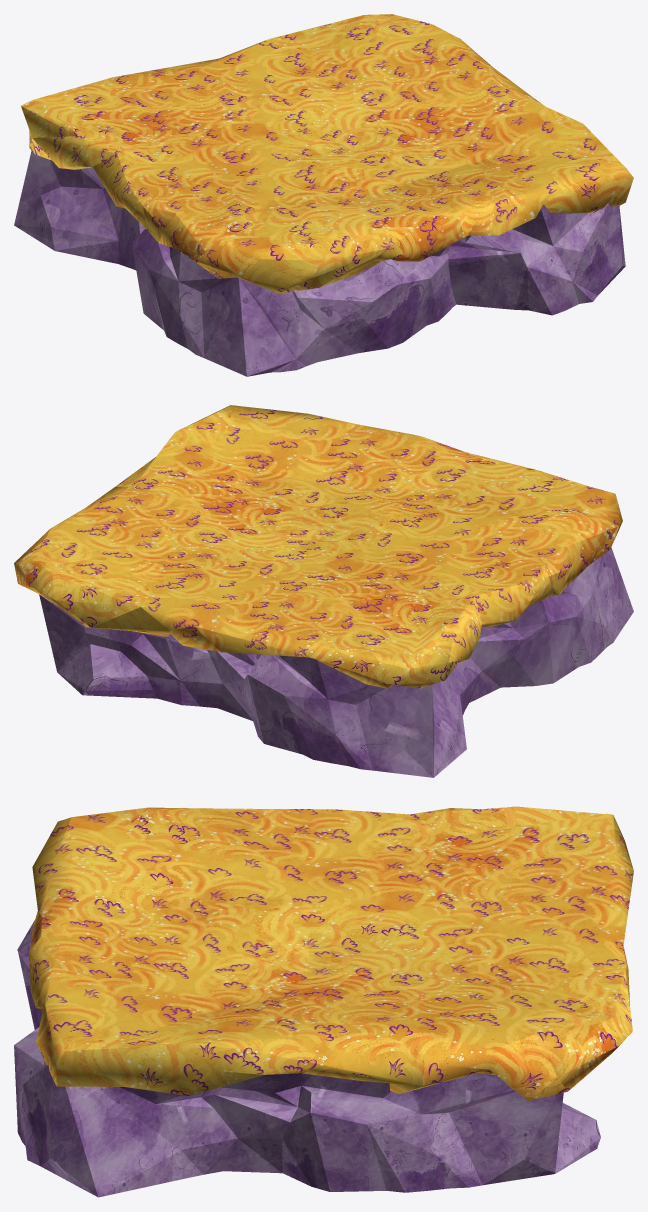
File: pm-floating-island-3.glb
3 views of the same model, one above another, from view 1: azimuth 30°, elevation 25°; view 2: azimuth 150°, elevation 25°; view 3: azimuth 270°, elevation 25° (orthographic). The views are drawn at different scales.
Parts seen in each view (by area): view 1: Floating_Island_3_Art; view 2: Floating_Island_3_Art; view 3: Floating_Island_3_Art.
Boxes of the visible parts, <box> form: Floating_Island_3_Art: <box>14,14,633,376</box>; Floating_Island_3_Art: <box>14,405,633,777</box>; Floating_Island_3_Art: <box>14,806,633,1197</box>.
Size of what is drawn, in the model's own units: 15.52 by 4.29 by 15.73.
2 materials, 2 textured.
